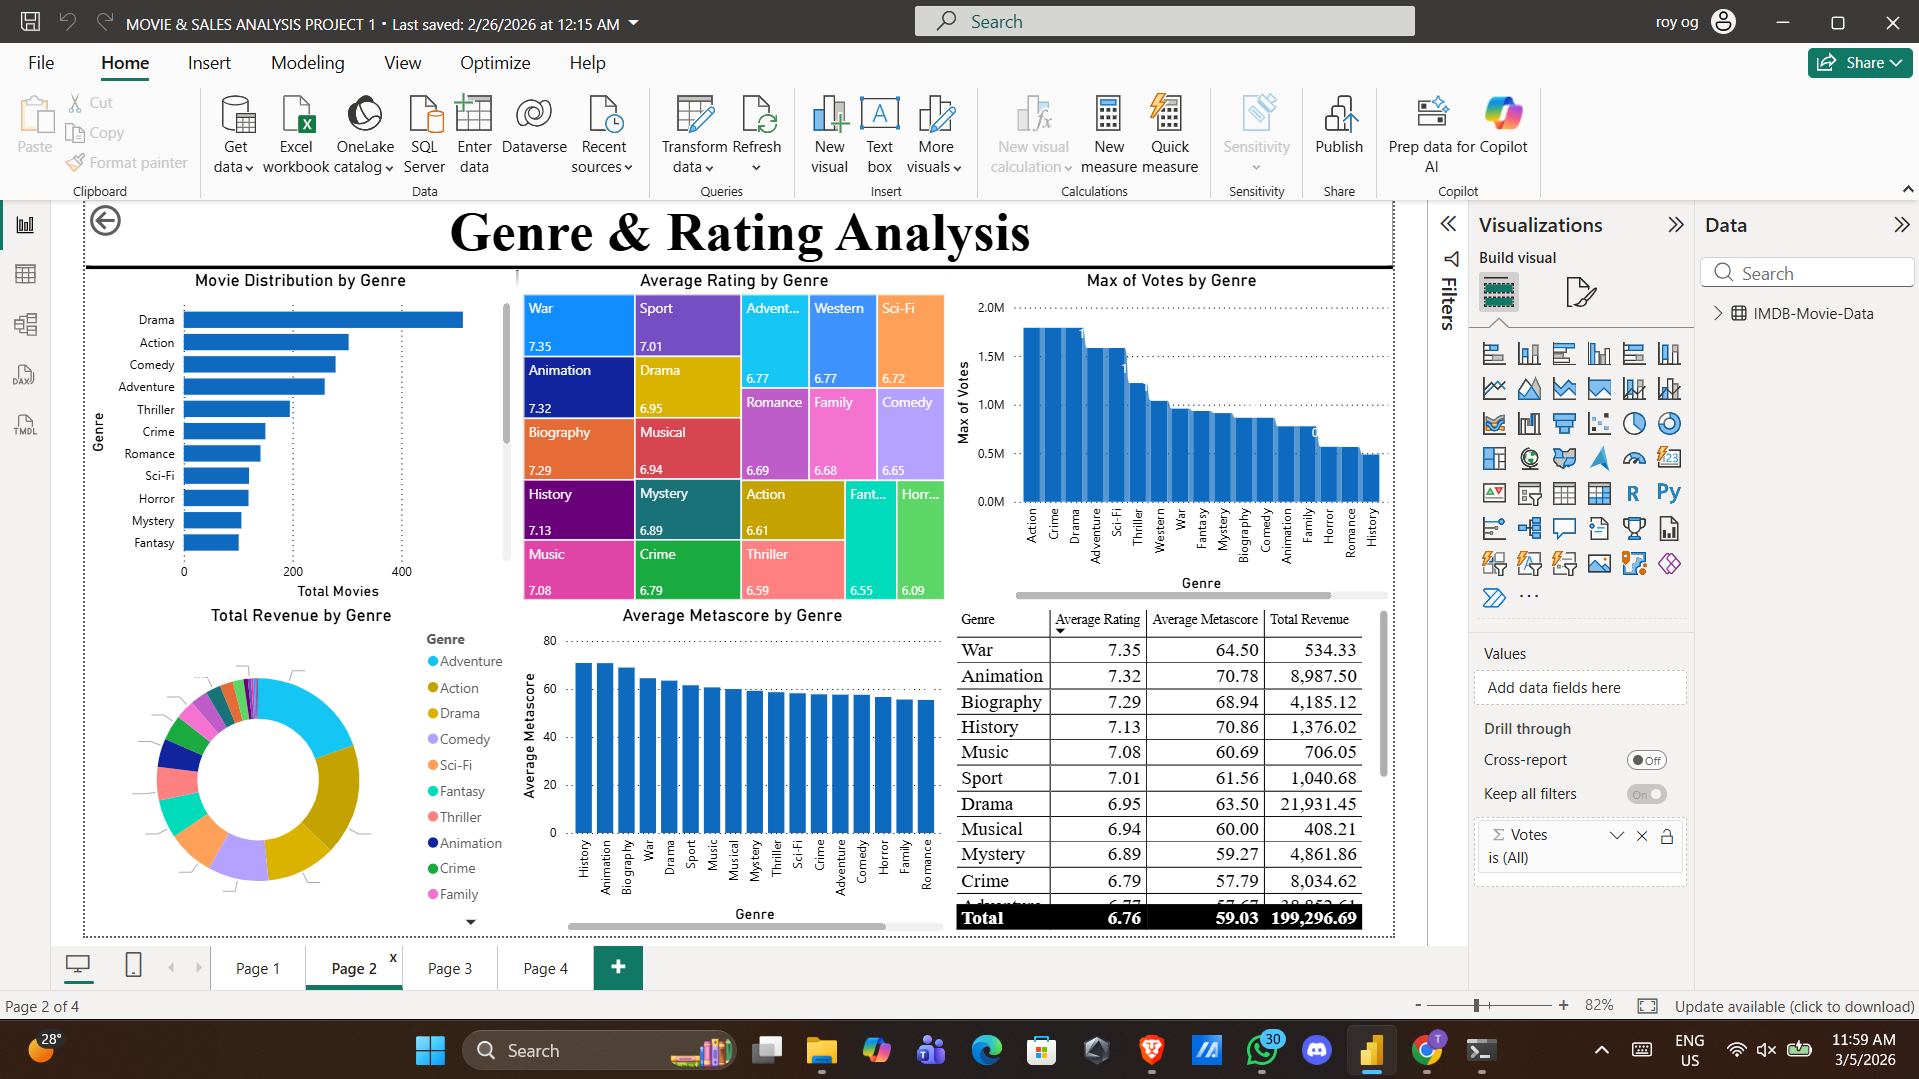

Layout of this report page (visuals, bound fields, positions):
{"tool":"powerbi","page":{"name":"Page 2","canvas":[1280,720],"ordinal":1},"visuals":[{"type":"textbox","title":"Genre & Rating Analysis","box":[0,0,1280.3,68.5],"z":0},{"type":"clusteredBarChart","title":"Movie Distribution by Genre","fields":{"Category":["IMDB-Movie-Data.Genre"],"Y":["IMDB-Movie-Data.Total Movies"]},"box":[0,68.5,421.9,327.7],"z":1000},{"type":"treemap","fields":{"Group":["IMDB-Movie-Data.Genre"],"Values":["IMDB-Movie-Data.Average Rating"]},"box":[424.3,68.5,421.9,327.7],"z":2000},{"type":"donutChart","fields":{"Y":["IMDB-Movie-Data.Total Revenue"],"Category":["IMDB-Movie-Data.Genre"]},"box":[0,396.2,423.1,322.8],"z":3000},{"type":"clusteredColumnChart","fields":{"Y":["IMDB-Movie-Data.Average Metascore"],"Category":["IMDB-Movie-Data.Genre"]},"box":[421.9,396.2,423.1,324.1],"z":4000},{"type":"actionButton","box":[0,0,100,40],"z":5000},{"type":"columnChart","fields":{"Category":["IMDB-Movie-Data.Genre"],"Y":["Max(IMDB-Movie-Data.Votes)"]},"box":[846.2,68.5,434.1,327.7],"z":6000},{"type":"tableEx","fields":{"Values":["IMDB-Movie-Data.Genre","IMDB-Movie-Data.Average Rating","IMDB-Movie-Data.Average Metascore","IMDB-Movie-Data.Total Revenue"]},"box":[846.2,396.2,434.1,322.8],"z":7000}]}

Visuals, with their boxes on the page's 1280x720 design canvas (x1, y1, x2, y2). These are canvas units, not pixel positions in the 1919x1079 screenshot, which may show the page scaled, cropped or inside an application window:
"Genre & Rating Analysis" textbox: x1=0 y1=0 x2=1280 y2=68
"Movie Distribution by Genre" clusteredBarChart: x1=0 y1=68 x2=422 y2=396
treemap - IMDB-Movie-Data.Genre x IMDB-Movie-Data.Average Rating: x1=424 y1=68 x2=846 y2=396
donutChart - IMDB-Movie-Data.Total Revenue x IMDB-Movie-Data.Genre: x1=0 y1=396 x2=423 y2=719
clusteredColumnChart - IMDB-Movie-Data.Average Metascore x IMDB-Movie-Data.Genre: x1=422 y1=396 x2=845 y2=720
actionButton: x1=0 y1=0 x2=100 y2=40
columnChart - IMDB-Movie-Data.Genre x Max(IMDB-Movie-Data.Votes): x1=846 y1=68 x2=1280 y2=396
tableEx - IMDB-Movie-Data.Genre x IMDB-Movie-Data.Average Rating: x1=846 y1=396 x2=1280 y2=719
